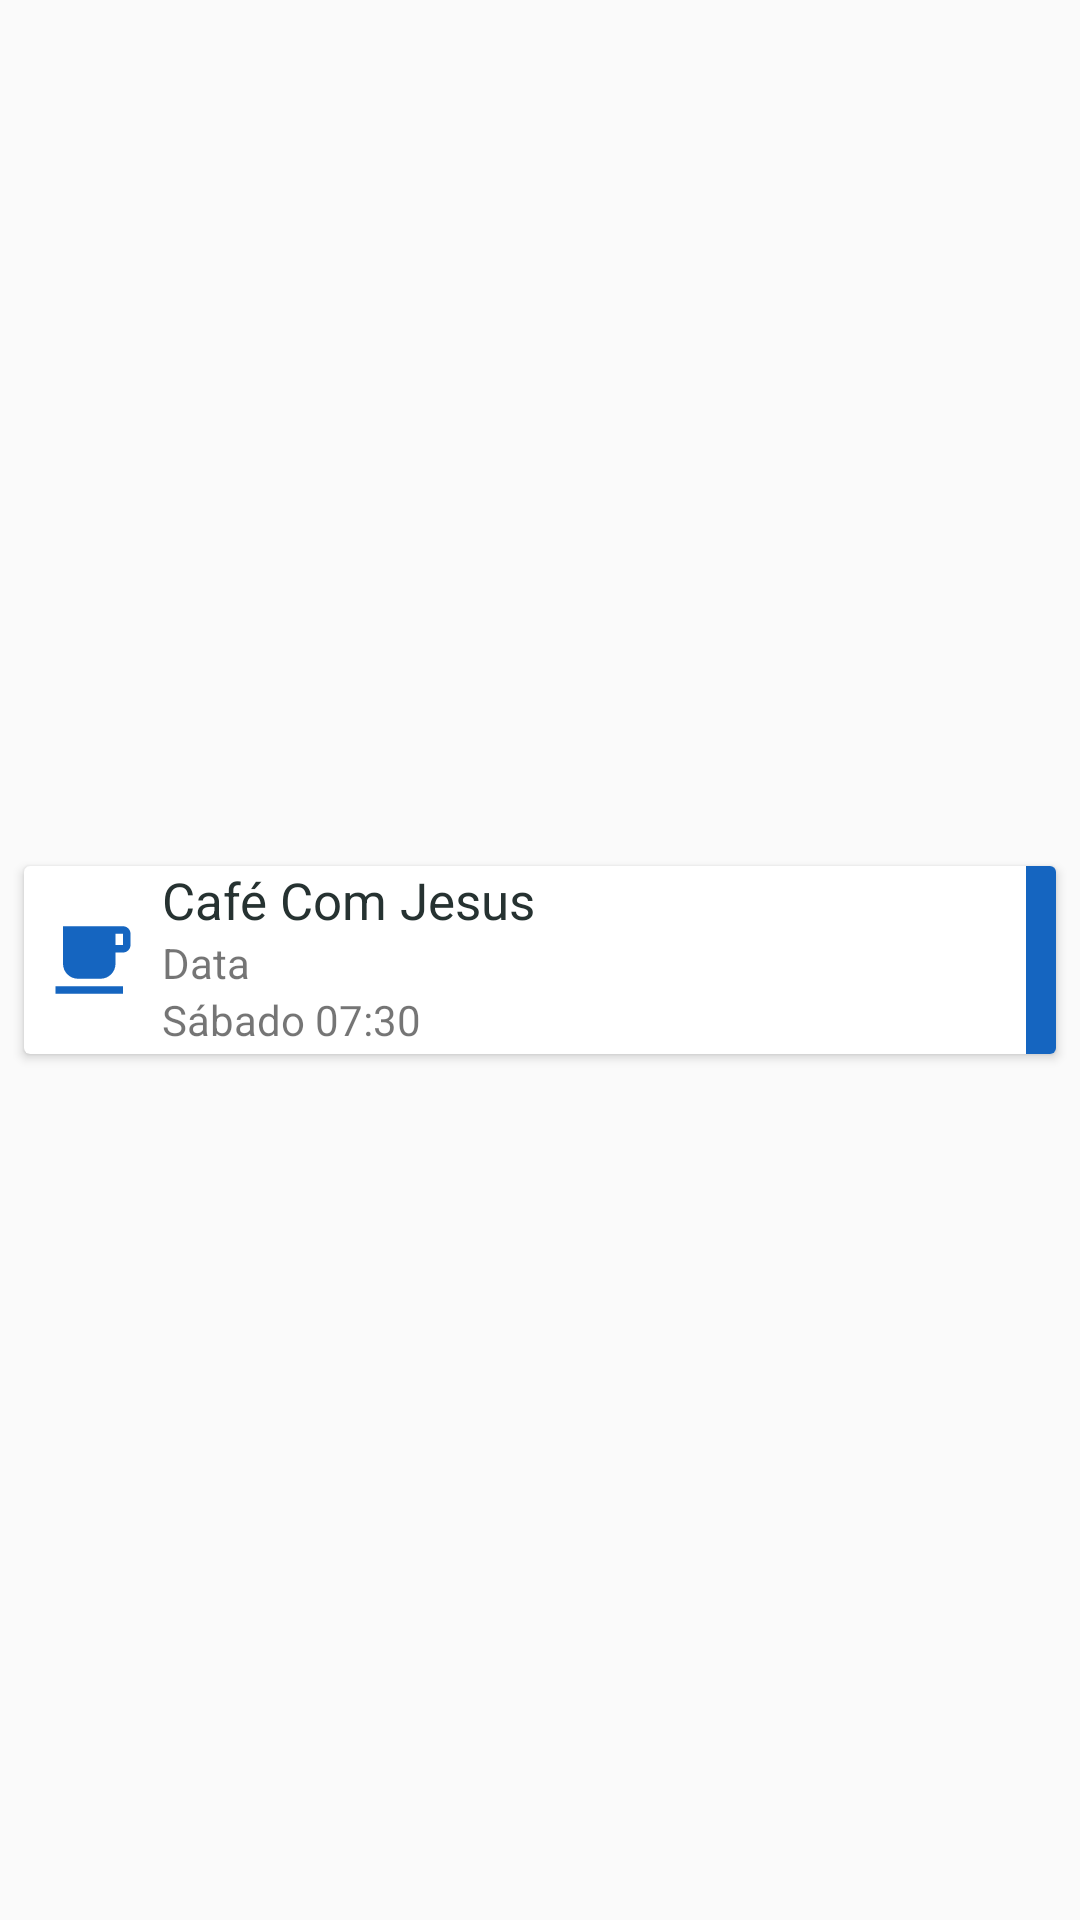

Icon click points for this 1080px x 1920px phone screenshot, format [x,y]:
local cafe: [93,960]
